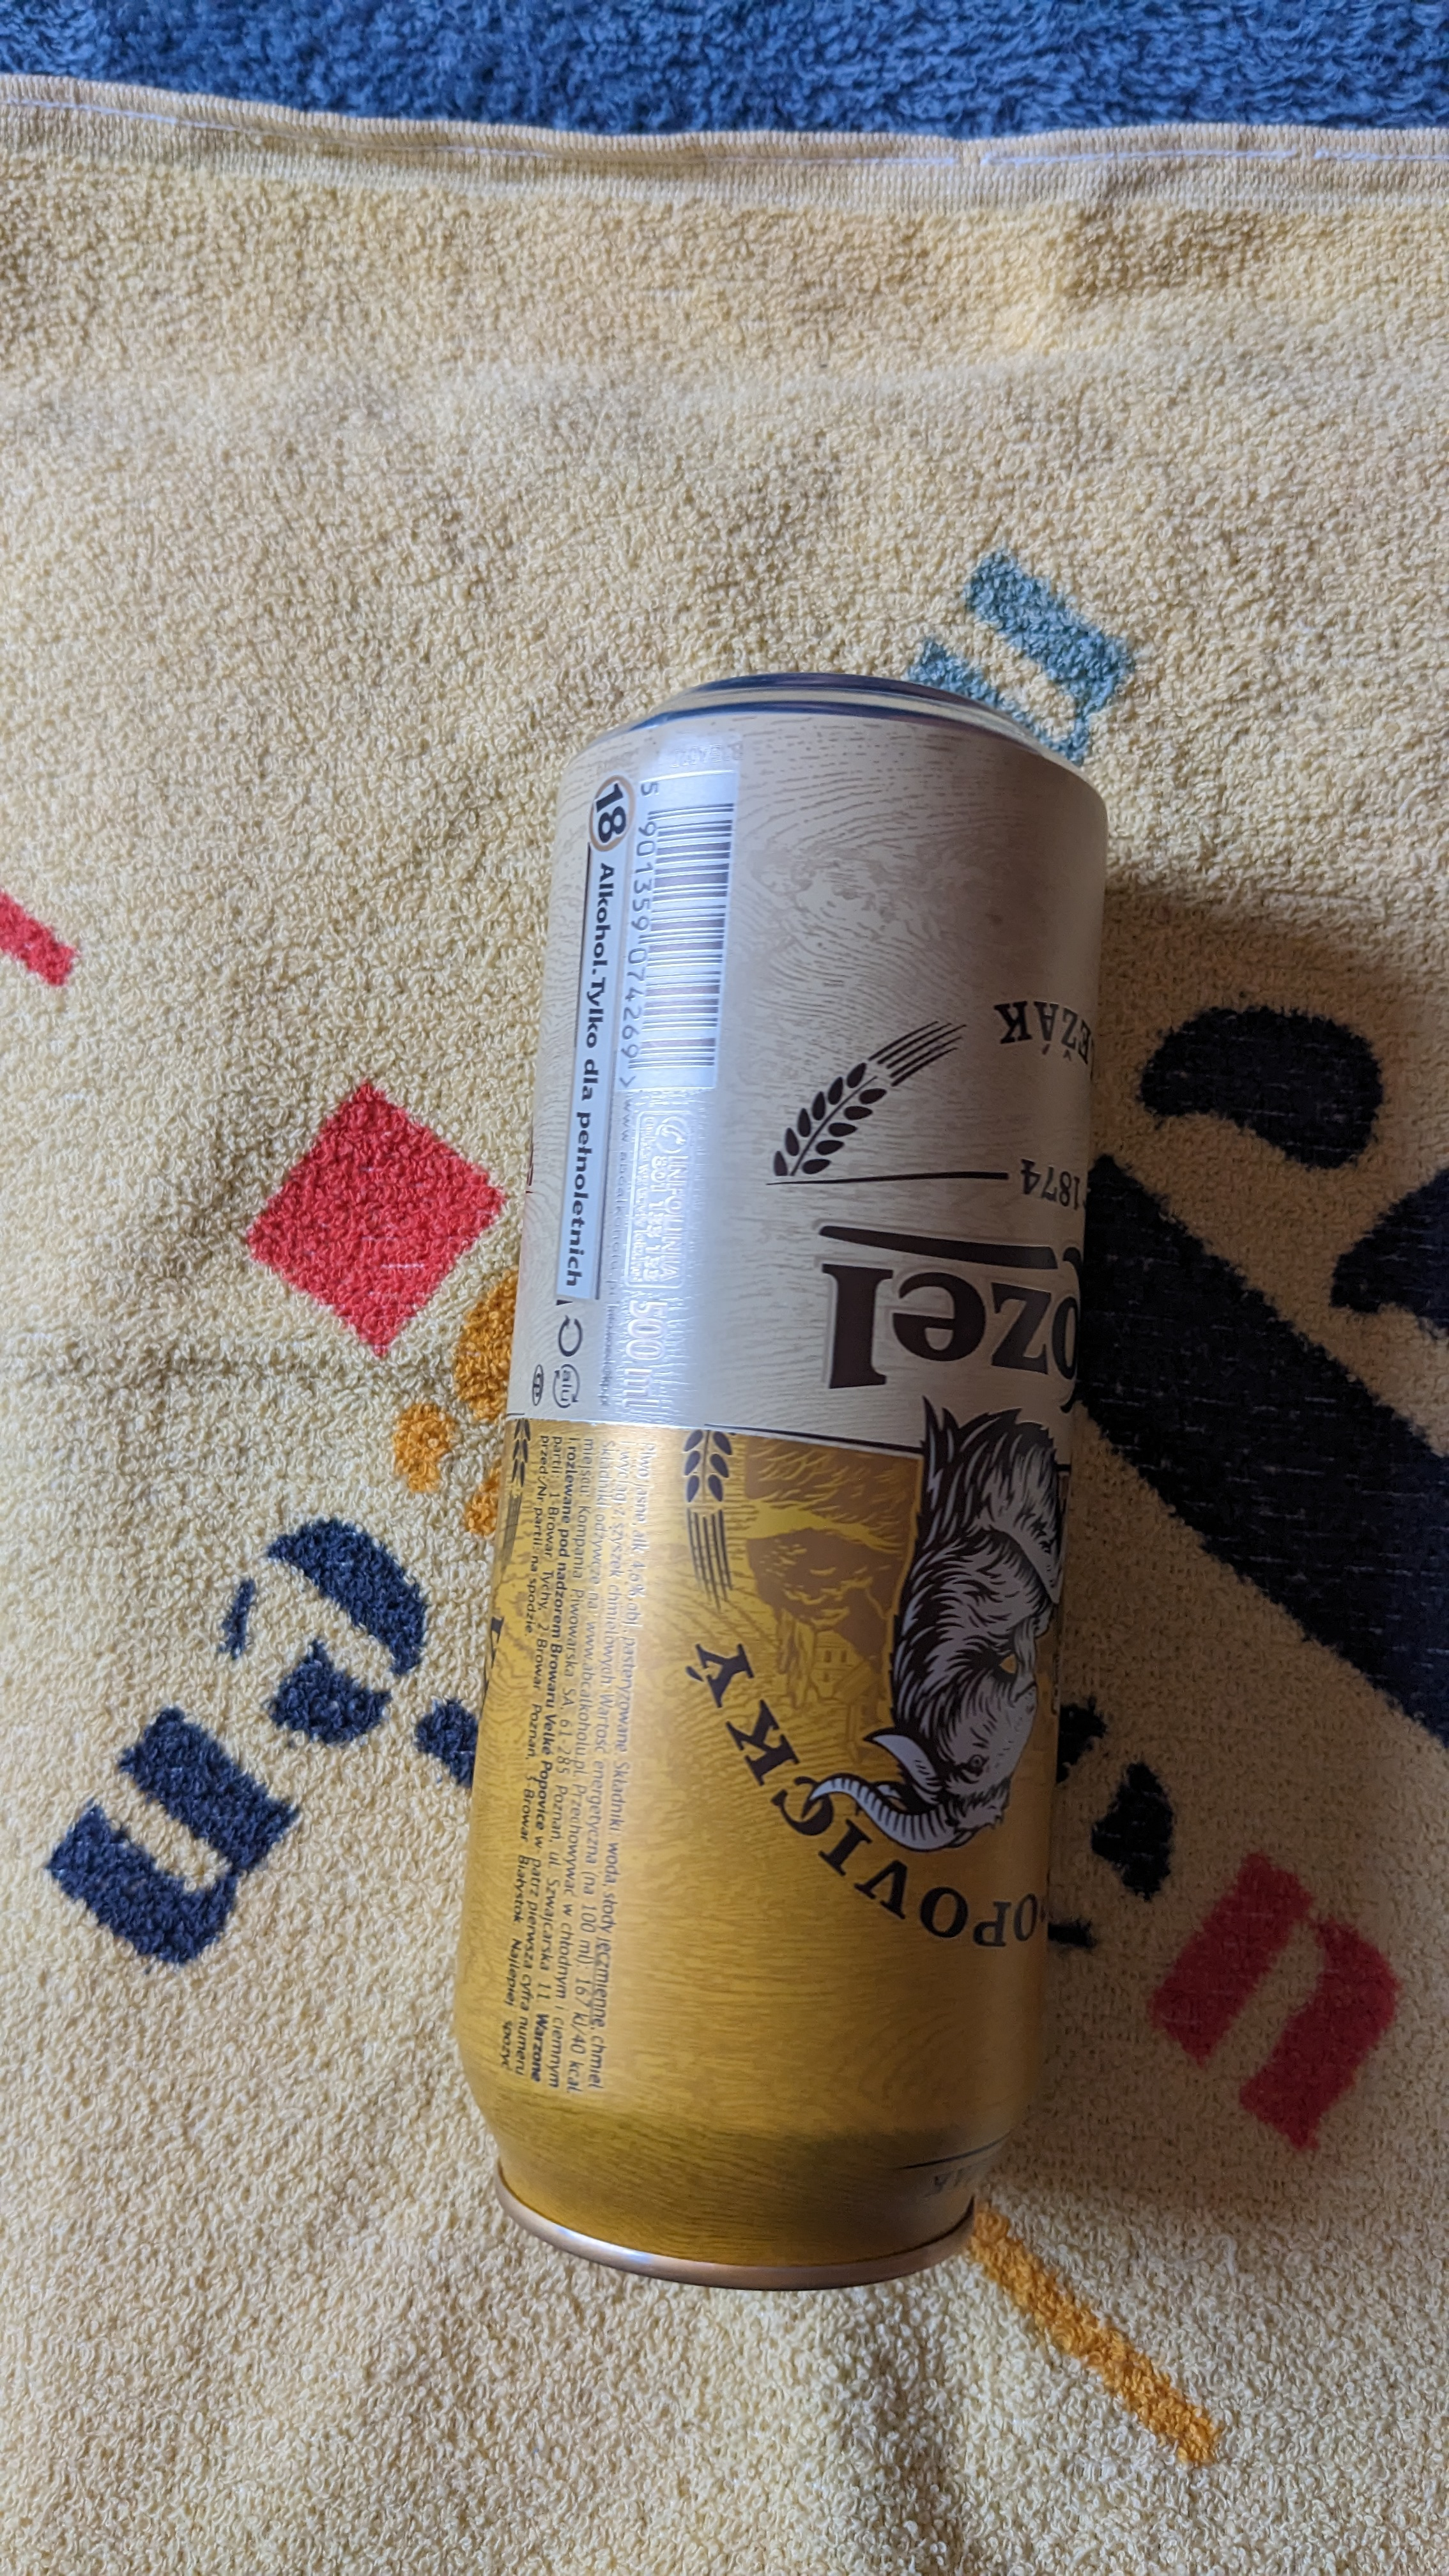kozel: (465, 669, 1113, 2270)
